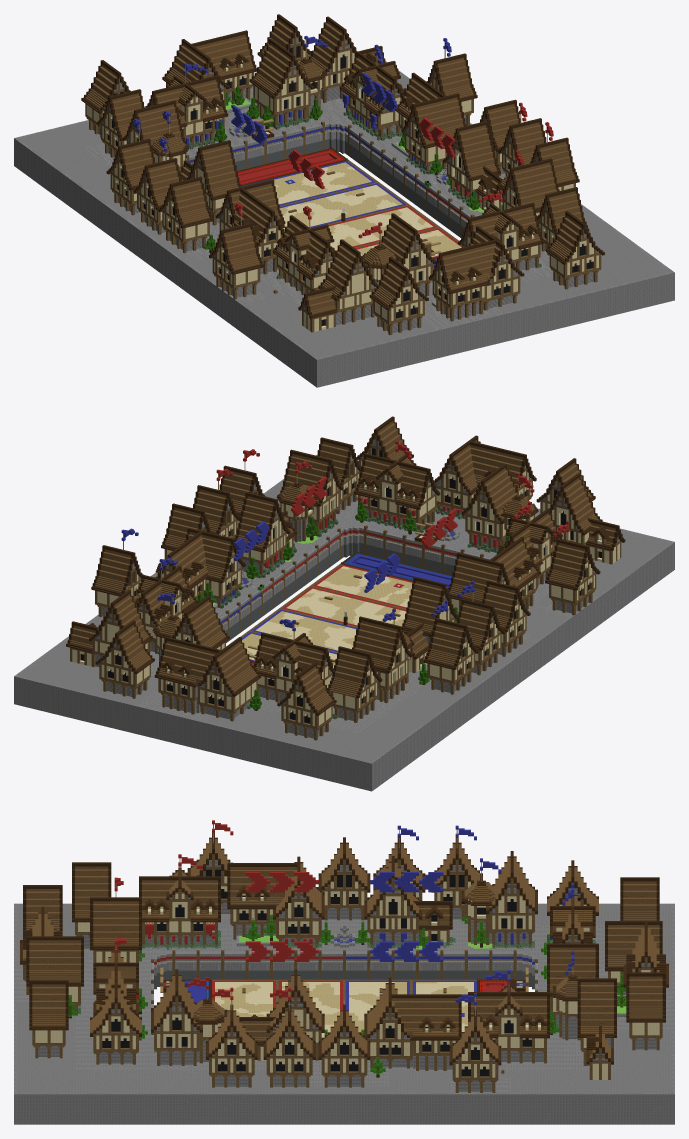
The model's file is minecraft.obj.
3 views of the same model, one above another, from view 1: azimuth 30°, elevation 25°; view 2: azimuth 150°, elevation 25°; view 3: azimuth 270°, elevation 25° (orthographic). The views are drawn at different scales.
Size of the model in its own units: 151 by 44 by 217.
